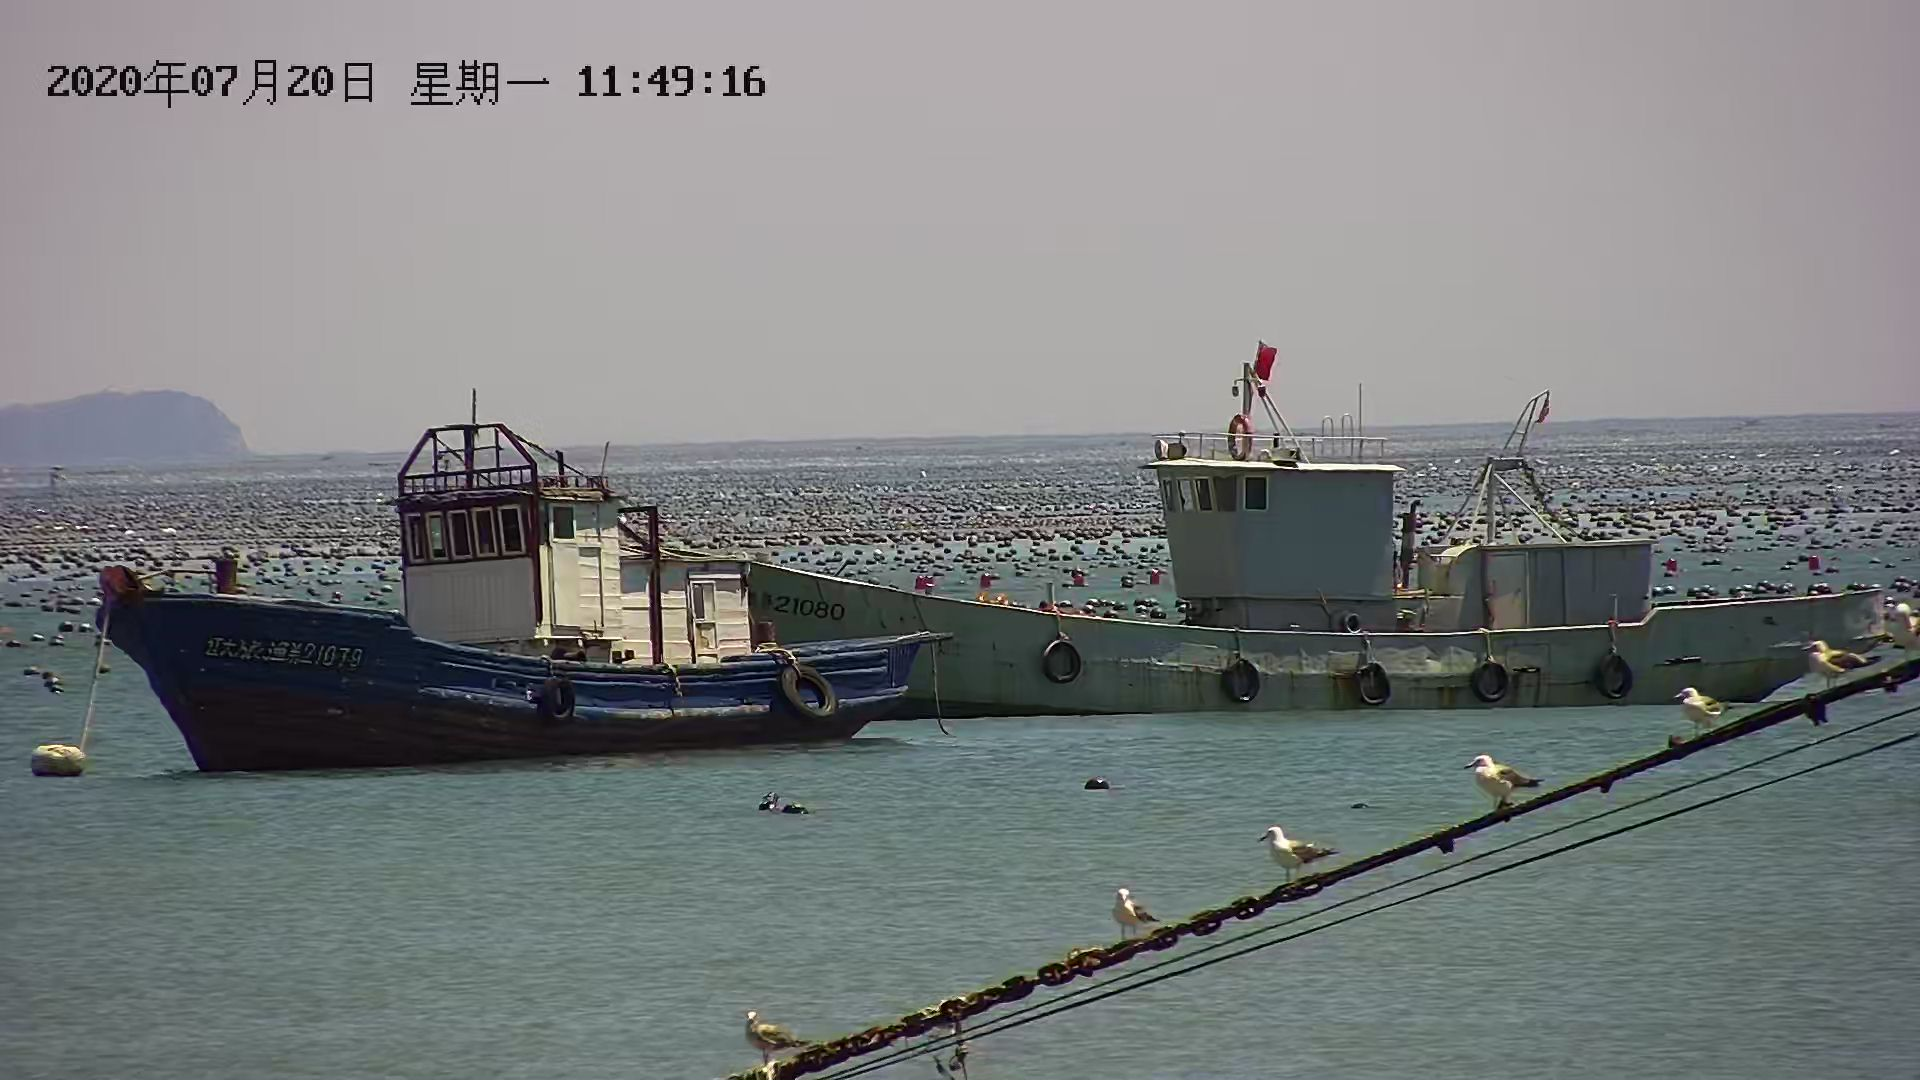ball: (769, 794, 812, 828), (1087, 771, 1120, 799)
boat: (781, 405, 1905, 709), (75, 430, 943, 769)
rubbish: (32, 736, 95, 786)
